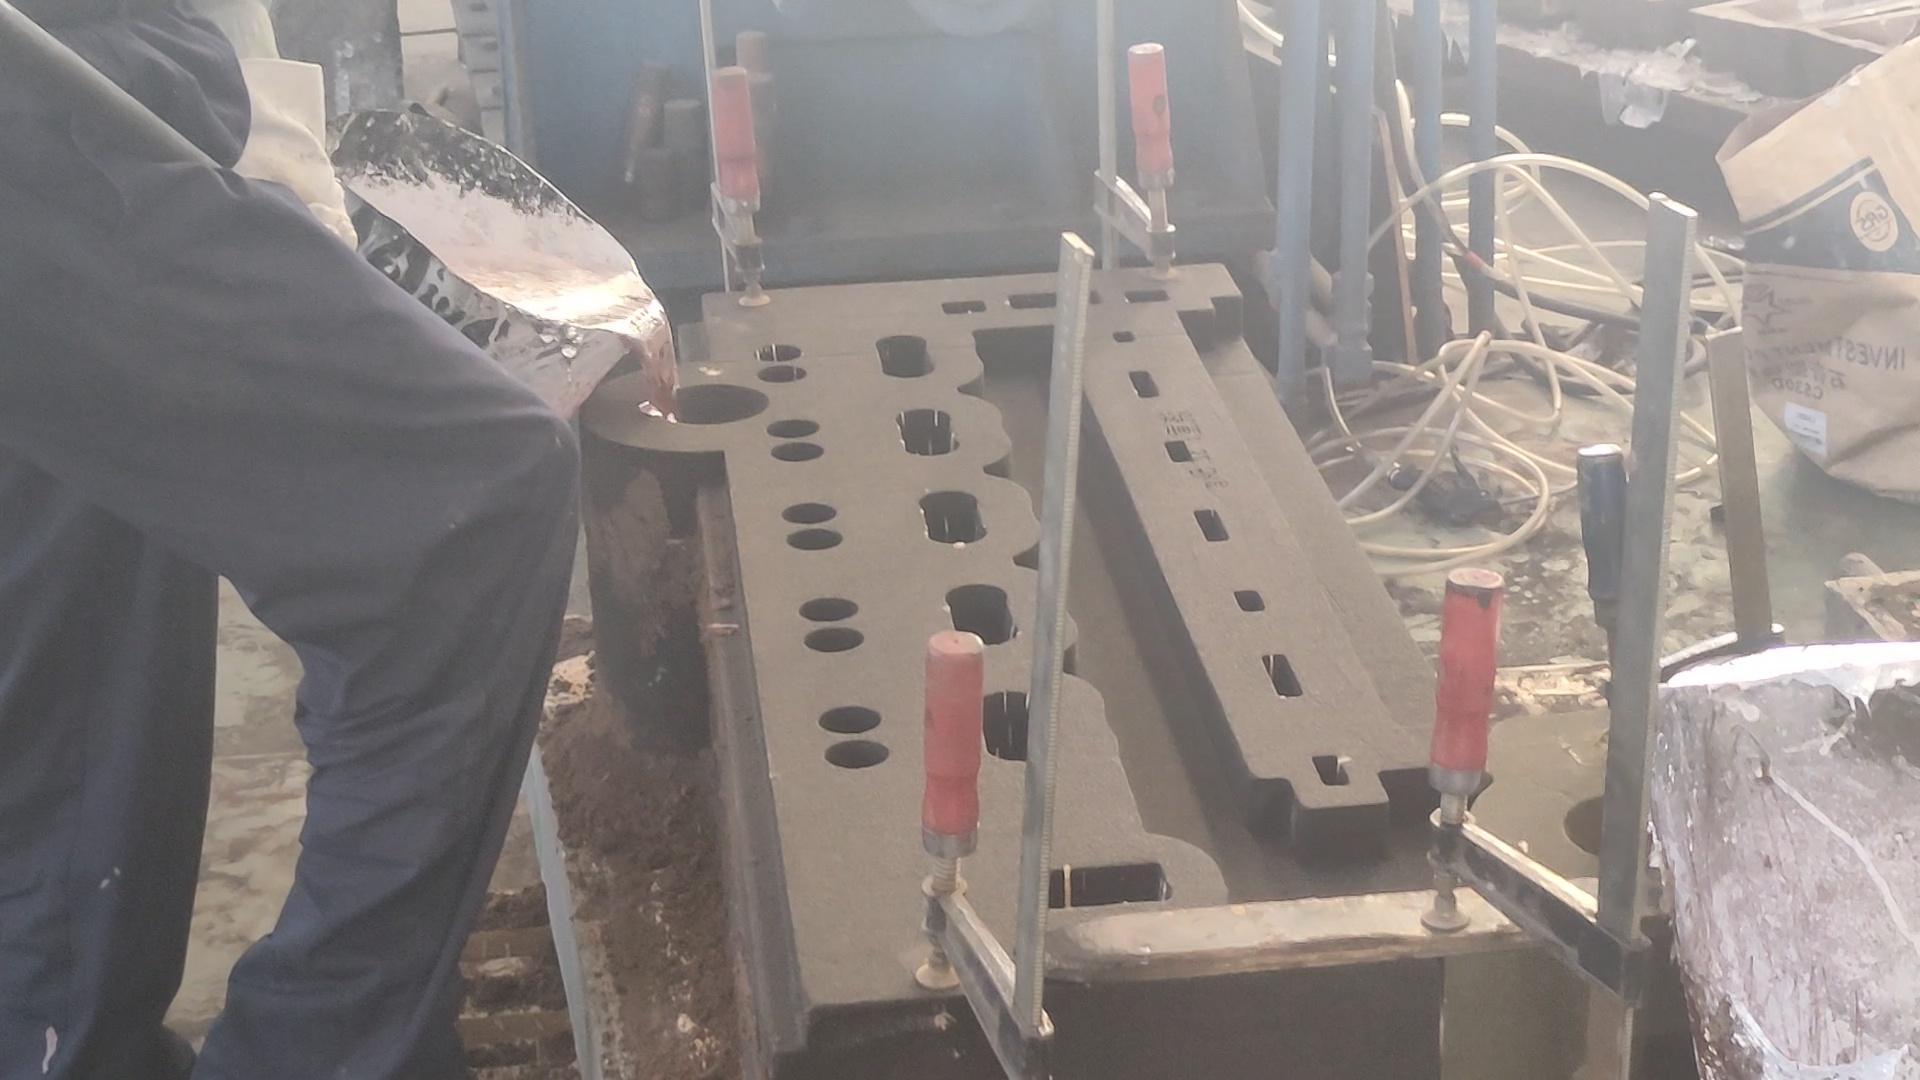pouring hole: (1561, 787, 1669, 860), (637, 381, 771, 425)
